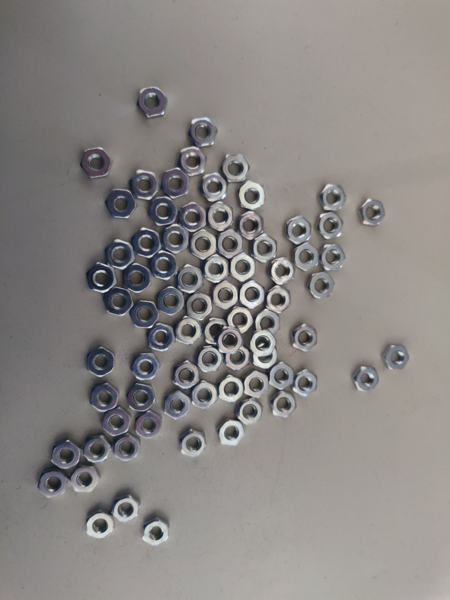nut: (135, 86, 169, 120), (147, 195, 178, 231), (78, 146, 111, 178), (85, 262, 117, 295), (186, 117, 218, 149), (84, 347, 117, 378), (104, 190, 138, 220), (158, 282, 187, 317), (150, 248, 179, 283), (133, 226, 164, 258), (206, 201, 237, 233), (141, 516, 171, 549), (125, 382, 155, 415), (317, 239, 346, 273), (175, 262, 203, 297), (83, 435, 112, 468), (265, 282, 292, 317), (178, 202, 208, 233), (103, 287, 133, 318), (120, 263, 150, 294), (128, 168, 157, 200), (131, 353, 160, 385), (130, 299, 159, 331), (195, 346, 224, 378), (102, 409, 131, 440), (217, 417, 246, 448), (84, 513, 116, 541), (163, 389, 191, 421), (283, 216, 312, 246), (88, 383, 118, 412), (251, 339, 280, 369), (172, 361, 200, 392), (103, 239, 134, 267), (239, 180, 266, 212), (39, 470, 66, 502), (163, 224, 190, 256), (239, 279, 266, 311), (305, 272, 337, 299), (220, 154, 249, 183), (111, 495, 139, 525), (188, 231, 218, 259), (249, 328, 277, 358), (228, 306, 256, 336), (318, 184, 345, 215), (51, 439, 78, 470), (184, 293, 215, 320), (226, 345, 253, 376), (290, 324, 318, 353), (200, 174, 228, 203), (71, 465, 100, 493), (191, 381, 219, 410), (317, 213, 346, 241), (202, 318, 230, 347), (358, 198, 385, 228), (179, 147, 205, 178), (253, 233, 279, 264), (271, 257, 296, 289), (353, 365, 380, 394), (237, 213, 266, 240), (212, 282, 241, 309), (384, 345, 410, 375), (163, 168, 189, 198), (218, 229, 244, 259), (116, 434, 141, 465), (135, 412, 162, 440), (294, 242, 320, 271), (246, 369, 270, 400), (230, 255, 257, 282), (219, 376, 245, 404), (147, 325, 175, 351), (182, 432, 207, 461), (176, 317, 201, 346), (295, 369, 318, 400), (220, 325, 243, 356), (271, 391, 295, 420), (271, 364, 295, 393), (238, 399, 262, 427), (205, 255, 227, 285), (258, 309, 281, 336)
